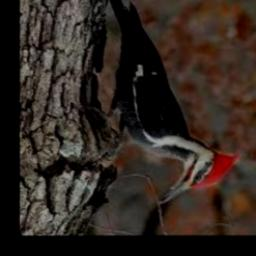Woodpecker: (106, 0, 240, 204)
